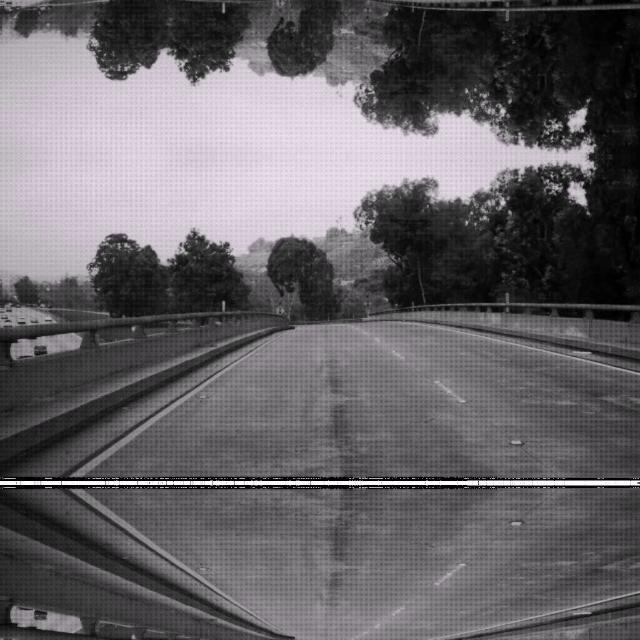signalAhead: (273, 304, 285, 314), (273, 0, 286, 9), (362, 296, 372, 306), (362, 6, 372, 16)
